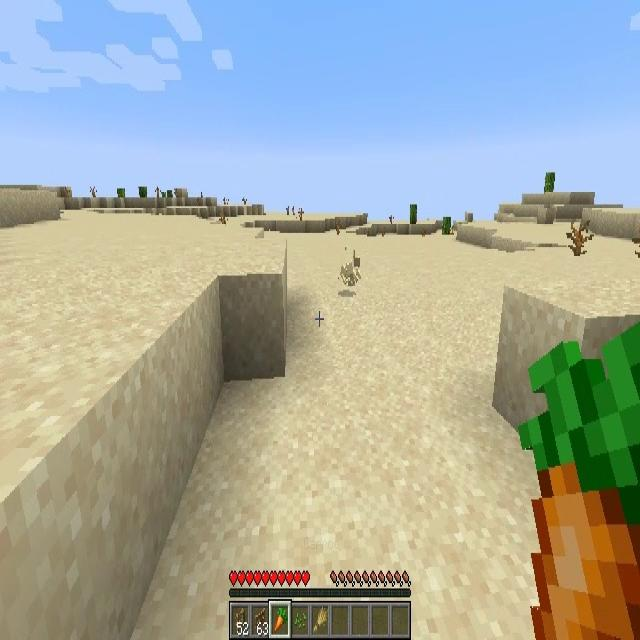rabbit: (339, 250, 361, 286)
